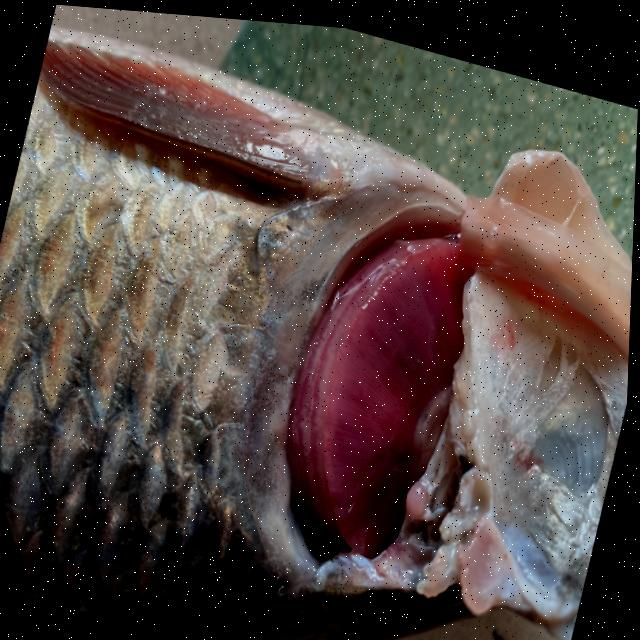Fresh: (245, 237, 487, 583)
